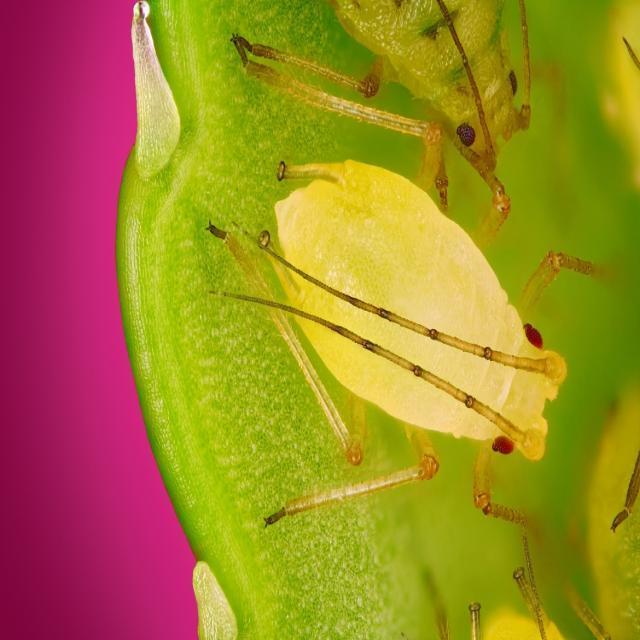Aphids: (225, 115, 575, 535)
